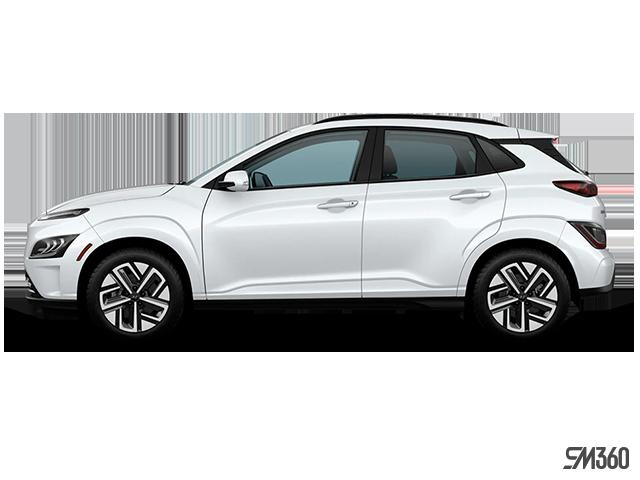hyundai: (22, 114, 618, 344)
